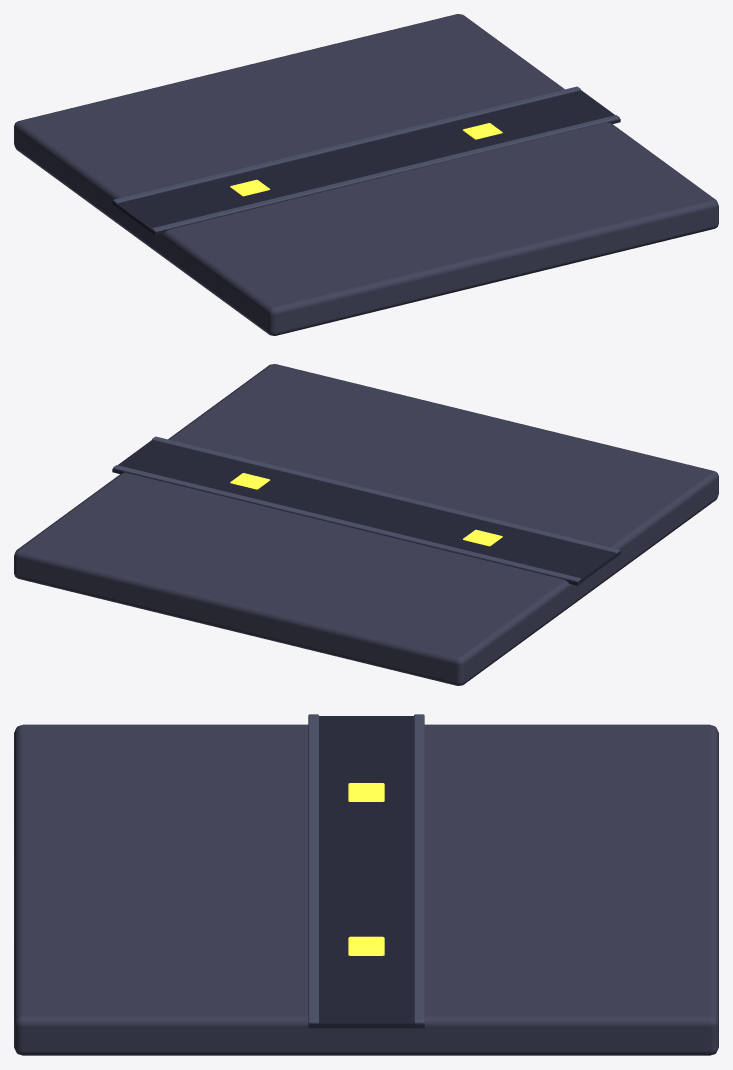
File: floor.corridor.glb
3 renders of one model, top to bottom at view 1: azimuth 30°, elevation 25°; view 2: azimuth 150°, elevation 25°; view 3: azimuth 270°, elevation 25°, orthographic. The views are drawn at different scales.
Visible parts, largest first — view 1: floor.corridor; view 2: floor.corridor; view 3: floor.corridor.
Boxes of the visible parts, bbox=[...] form: floor.corridor: bbox=[14, 14, 718, 335]; floor.corridor: bbox=[14, 364, 718, 685]; floor.corridor: bbox=[14, 714, 718, 1055].
Size of the model in its own units: 1 by 0.064 by 0.968.
